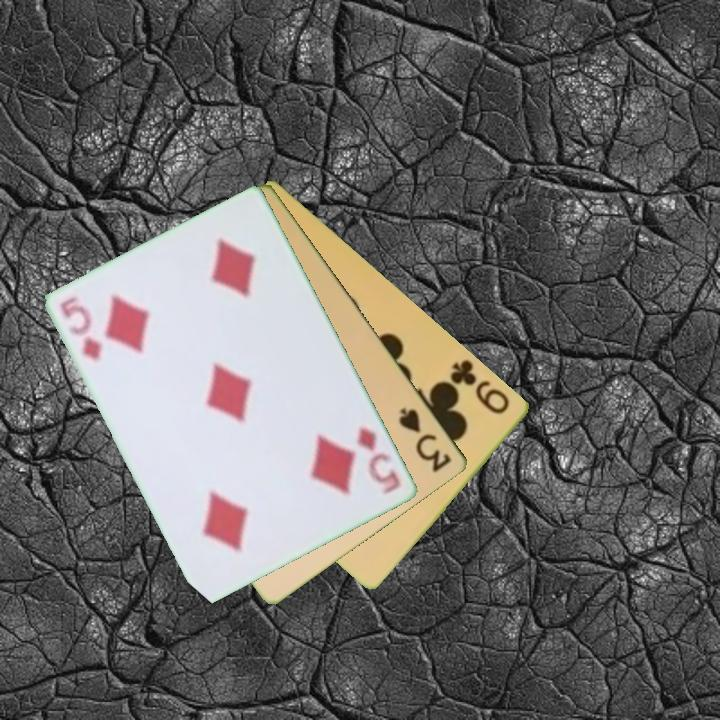3s: (395, 404, 455, 476)
5d: (354, 423, 404, 498), (57, 293, 106, 364)
9c: (447, 355, 513, 418)
